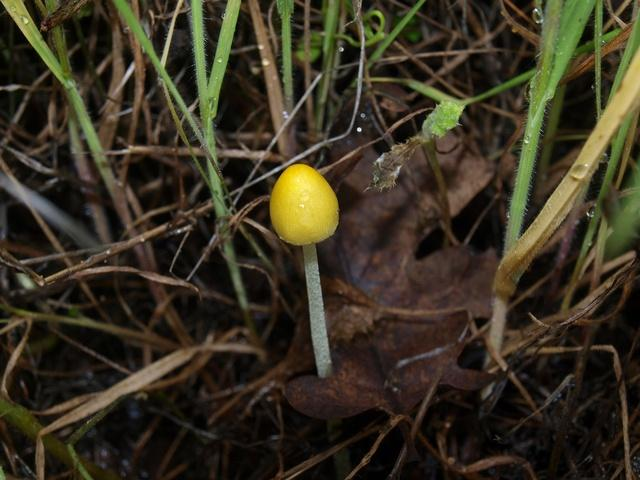Edible Mushroom: (268, 162, 340, 378)
